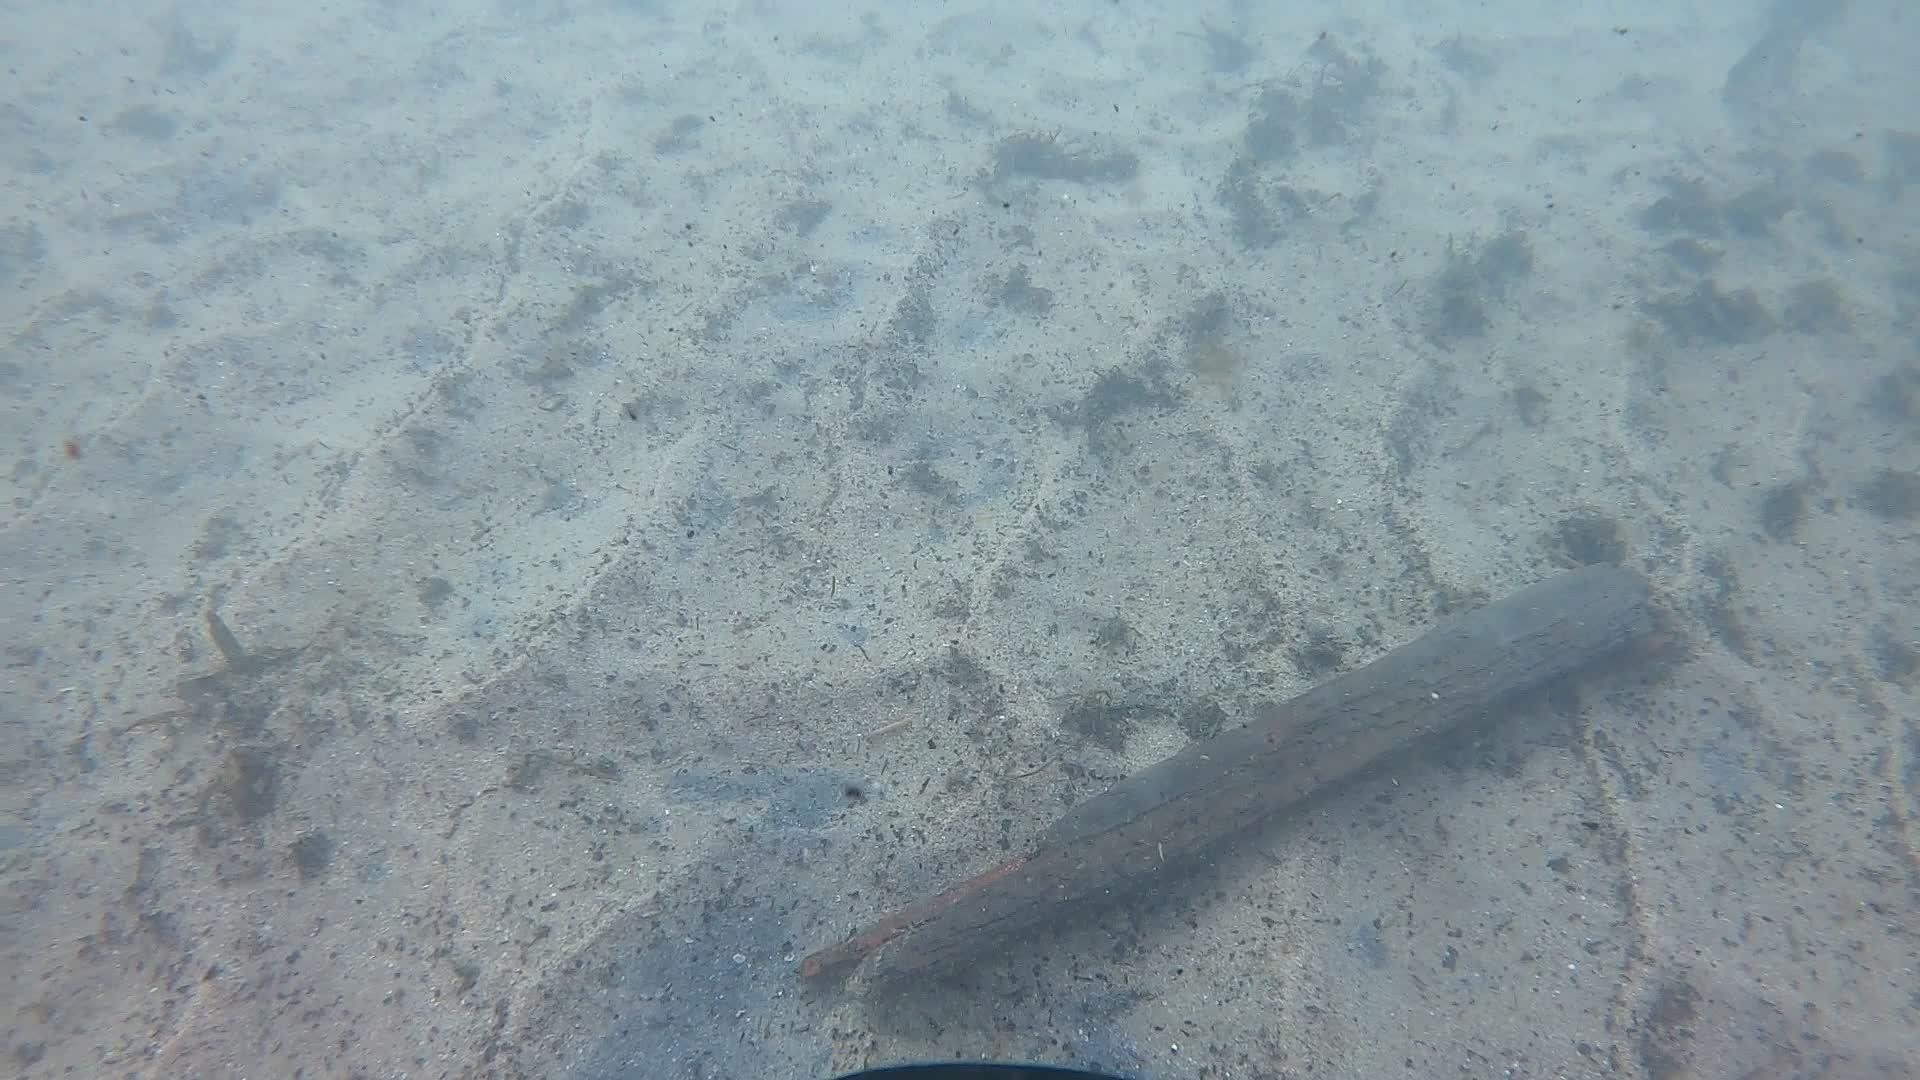wood: (782, 554, 1681, 1007)
